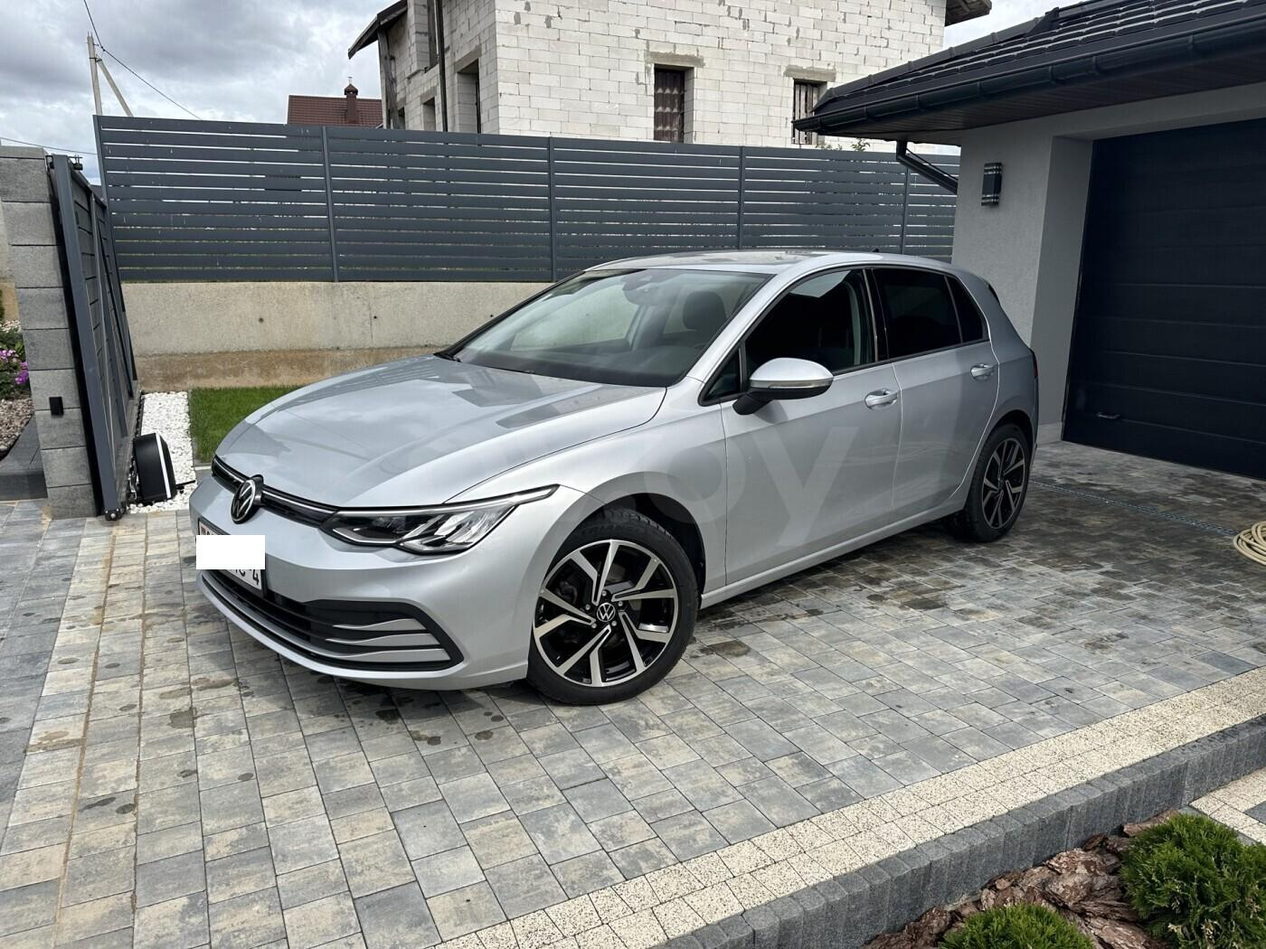Golf_2019: (180, 243, 1036, 706)
